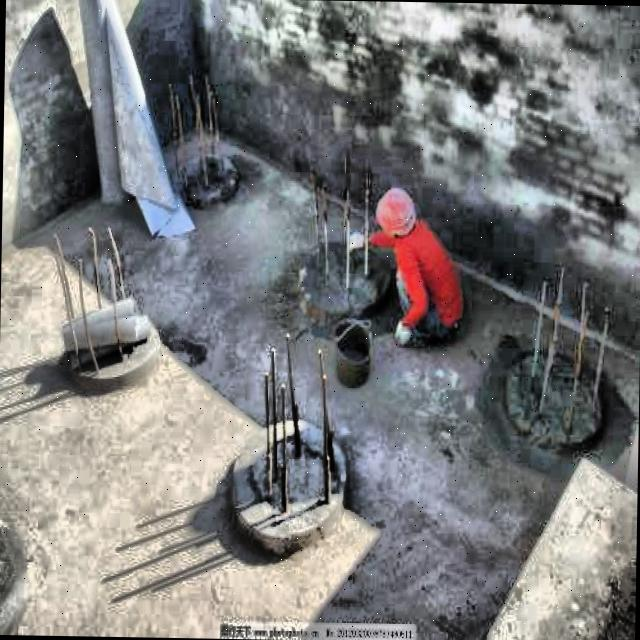helmet: (368, 178, 422, 250)
